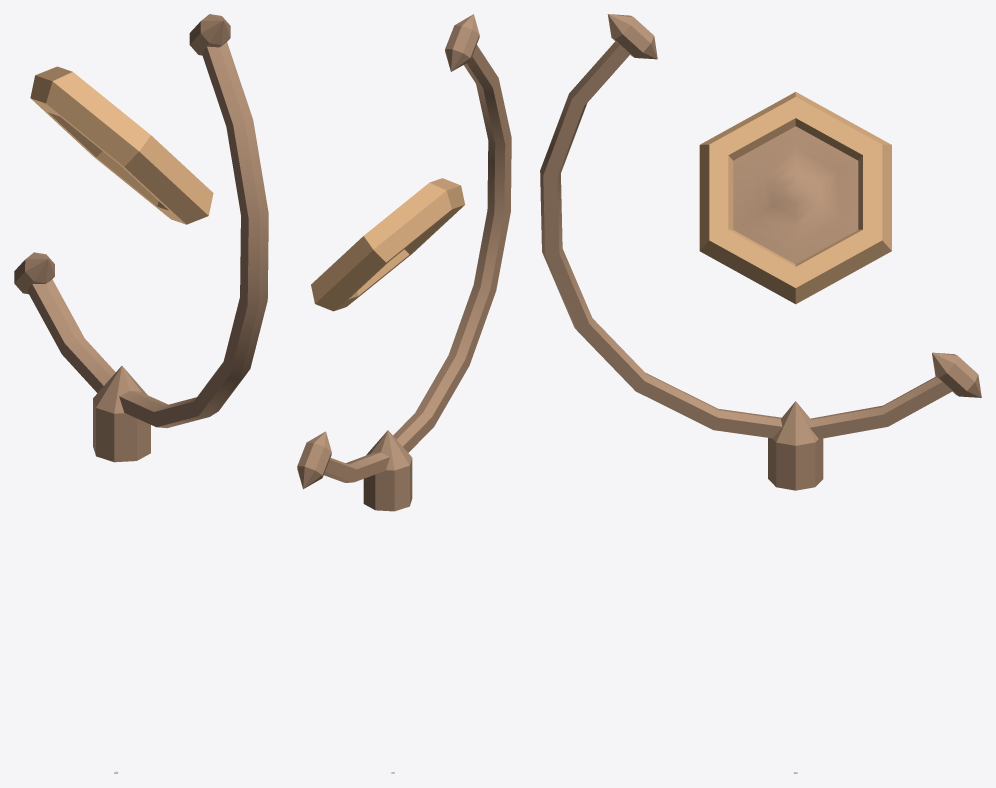
File: AppGameGyroscope.fbx
The picture shows the model from 3 angles, left to right: view 1: azimuth 30°, elevation 25°; view 2: azimuth 150°, elevation 25°; view 3: azimuth 270°, elevation 25°; orthographic projection. The views are drawn at different scales.
Parts seen in each view (by area): view 1: Circle.002, Torus.003; view 2: Circle.002, Torus.003; view 3: Torus.003, Circle.002.
Part boxes in pixels (x1,y1,x2,y2): Circle.002: (14,14,268,462); Torus.003: (30,66,213,224); Circle.002: (297,14,511,511); Torus.003: (311,178,464,311); Torus.003: (699,92,891,304); Circle.002: (540,14,981,490).
Size of the model in its own units: 182 by 946 by 497.
